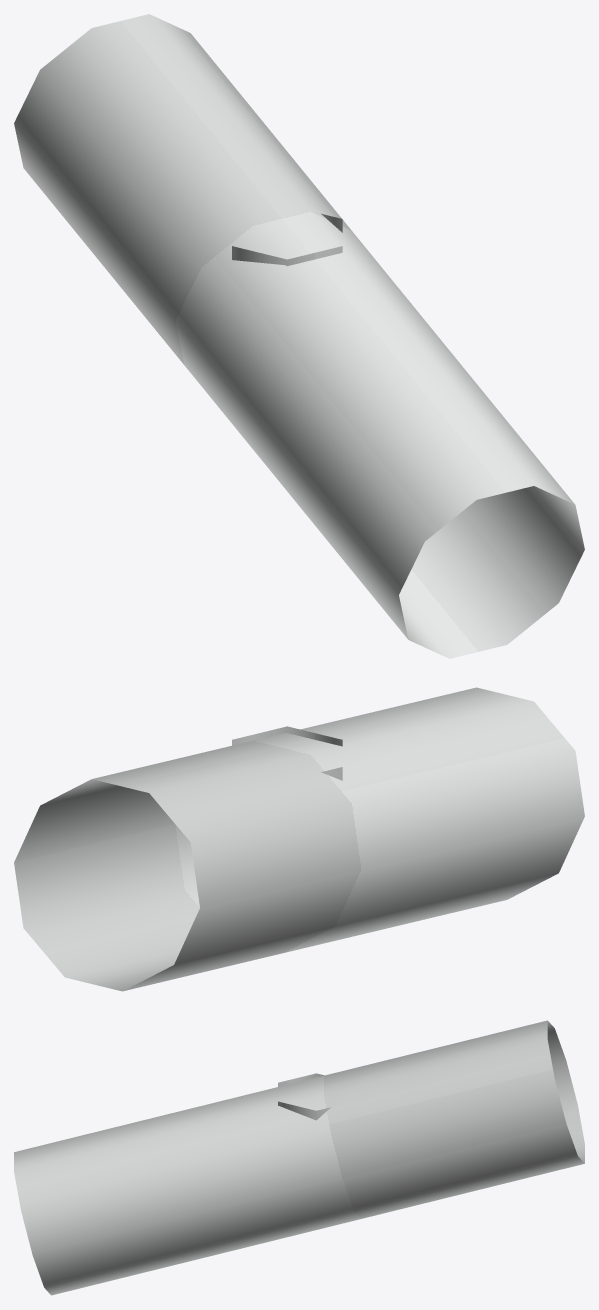
File: trusssignalarm_sloped12_c4.obj
3 renders of one model, top to bottom at view 1: azimuth 30°, elevation 25°; view 2: azimuth 150°, elevation 25°; view 3: azimuth 270°, elevation 25°, orthographic. The views are drawn at different scales.
Parts seen in each view (by area): view 1: trusssignalarm_sloped12_c4; view 2: trusssignalarm_sloped12_c4; view 3: trusssignalarm_sloped12_c4.
Boxes of the visible parts, left/top/right/bottom form: trusssignalarm_sloped12_c4: left=14, top=14, right=584, bottom=658; trusssignalarm_sloped12_c4: left=14, top=687, right=584, bottom=991; trusssignalarm_sloped12_c4: left=14, top=1020, right=584, bottom=1295.
Bounding box in the file's own units: 0.2625 × 0.4971 × 1.01.
